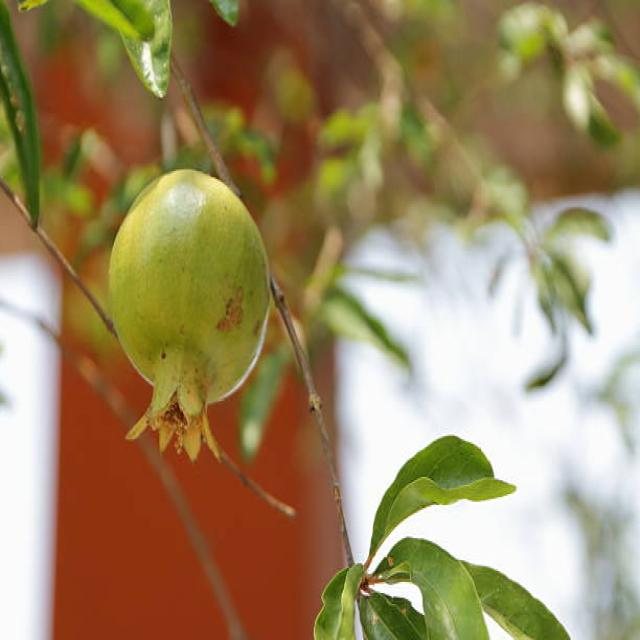Unripe: (106, 166, 272, 466)
